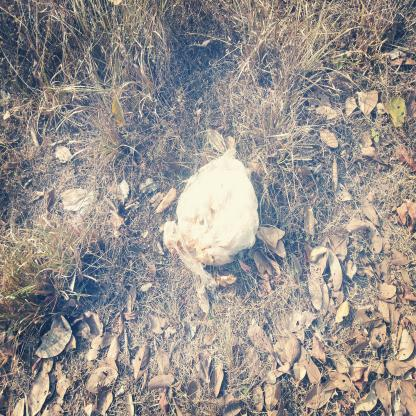trash: (176, 145, 262, 269), (162, 219, 226, 314)
